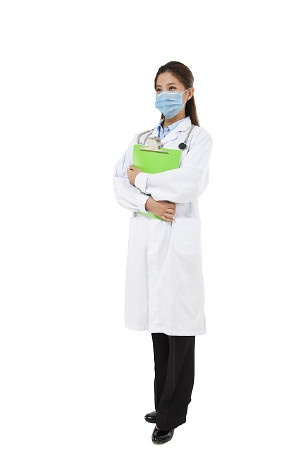Mask: (152, 81, 192, 121)
